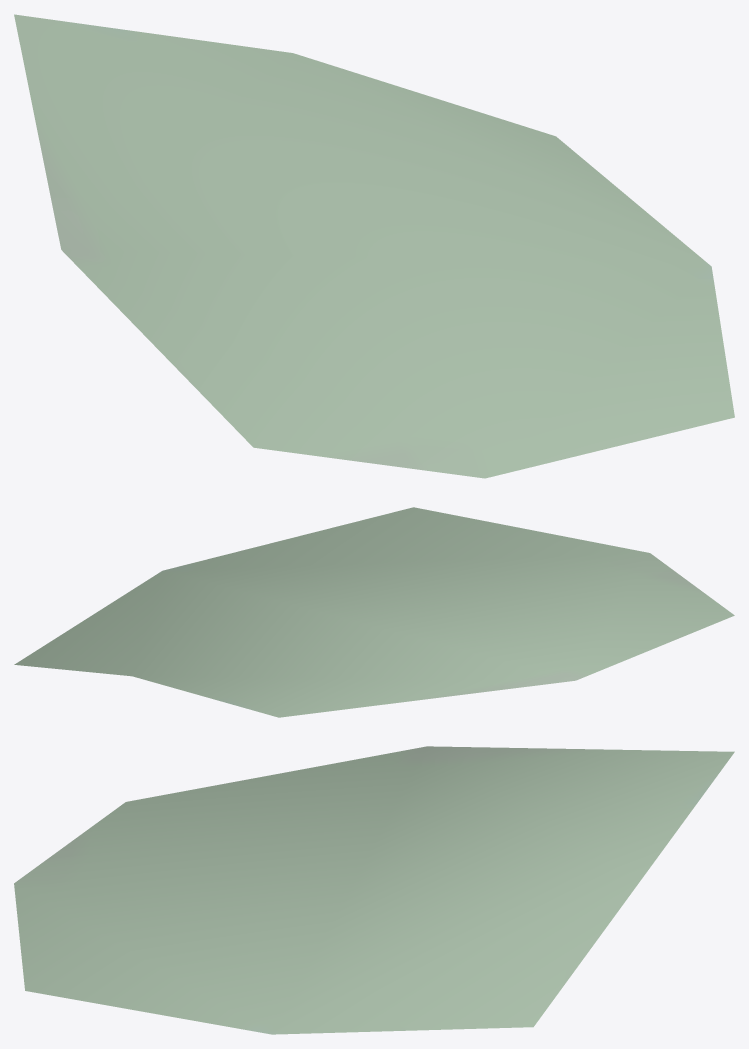
File: TROLLHOLE02_HOLECAP15.fbx
The picture shows the model from 3 angles, top to bottom: view 1: azimuth 30°, elevation 25°; view 2: azimuth 150°, elevation 25°; view 3: azimuth 270°, elevation 25°; orthographic projection. The views are drawn at different scales.
Parts seen in each view (by area): view 1: TROLLHOLE02_HOLECAP15; view 2: TROLLHOLE02_HOLECAP15; view 3: TROLLHOLE02_HOLECAP15.
Boxes of the visible parts, box(x1,y1,x2,y2) form: TROLLHOLE02_HOLECAP15: box(14, 14, 734, 478); TROLLHOLE02_HOLECAP15: box(14, 507, 734, 717); TROLLHOLE02_HOLECAP15: box(14, 746, 734, 1034).
Size of the model in its own units: 26362 by 6925 by 36044.
Materials: 1 (1 with a texture image).
